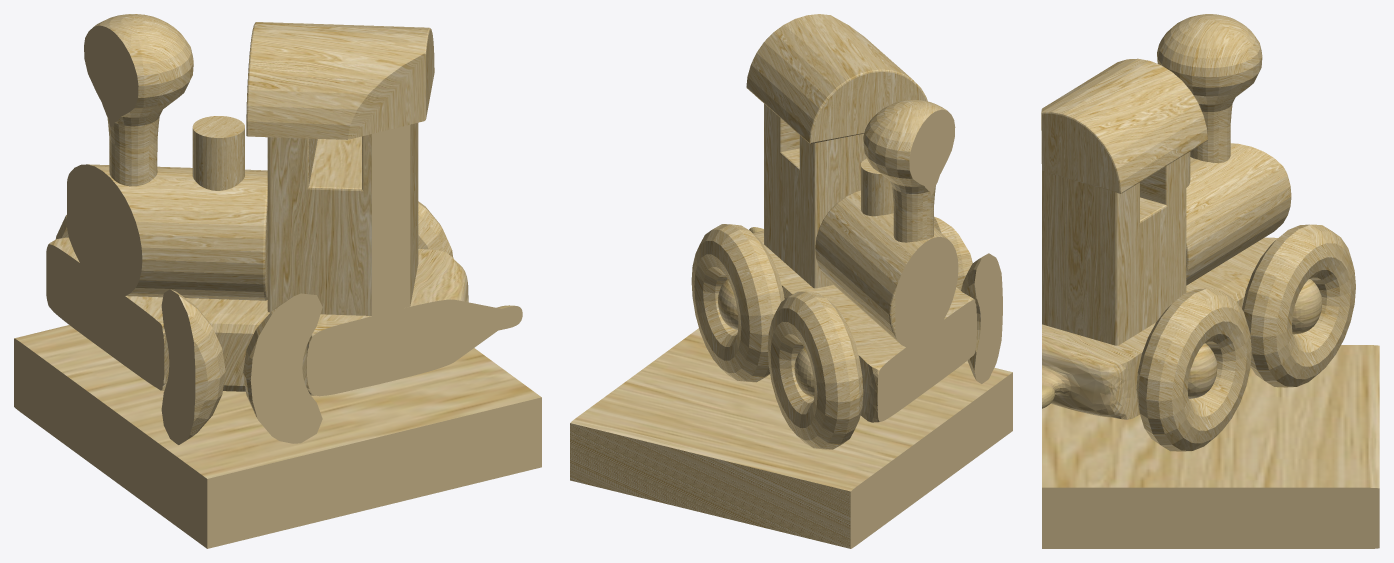
File: 1_Holzbahn.fbx
3 views of the same model, side by side, from view 1: azimuth 30°, elevation 25°; view 2: azimuth 150°, elevation 25°; view 3: azimuth 270°, elevation 25° (orthographic). The views are drawn at different scales.
Parts seen in each view (by area): view 1: Cube.010, Cube.028, Cube.023, Cube.026, Cube.022, Cube.027, Cube.024, Cube.030, Cube.008, Cube.025; view 2: Cube.010, Cube.022, Cube.026, Cube.028, Cube.029, Cube.023, Cube.025, Cube.027, Cube.030, Cube.008, Cube.024; view 3: Cube.010, Cube.023, Cube.022, Cube.025, Cube.029, Cube.028, Cube.026, Cube.027.
Part boxes in pixels (x1,y1,x2,y2): Cube.010: (14,325,541,548); Cube.028: (46,237,522,396); Cube.023: (267,123,418,315); Cube.026: (67,164,267,300); Cube.022: (246,22,434,139); Cube.027: (84,14,193,186); Cube.024: (243,293,322,443); Cube.030: (161,289,225,444); Cube.008: (192,116,244,190); Cube.025: (418,201,453,257); Cube.010: (570,328,1012,548); Cube.022: (746,14,927,143); Cube.026: (815,190,958,347); Cube.028: (718,227,976,422); Cube.029: (767,291,863,449); Cube.023: (764,104,866,288); Cube.025: (691,224,784,382); Cube.027: (863,100,955,242); Cube.030: (961,253,1002,383); Cube.008: (861,158,893,216); Cube.024: (934,216,972,290); Cube.010: (1042,345,1379,548); Cube.023: (1042,154,1186,345); Cube.022: (1041,58,1207,193); Cube.025: (1136,288,1251,451); Cube.029: (1242,224,1355,387); Cube.028: (1042,237,1322,419); Cube.026: (1186,143,1291,285); Cube.027: (1157,14,1262,163).
Size of the model in its own units: 500 by 647 by 501.
